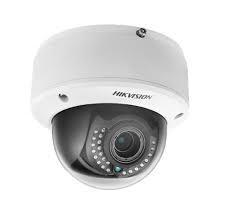CCTV: (33, 25, 189, 190)
